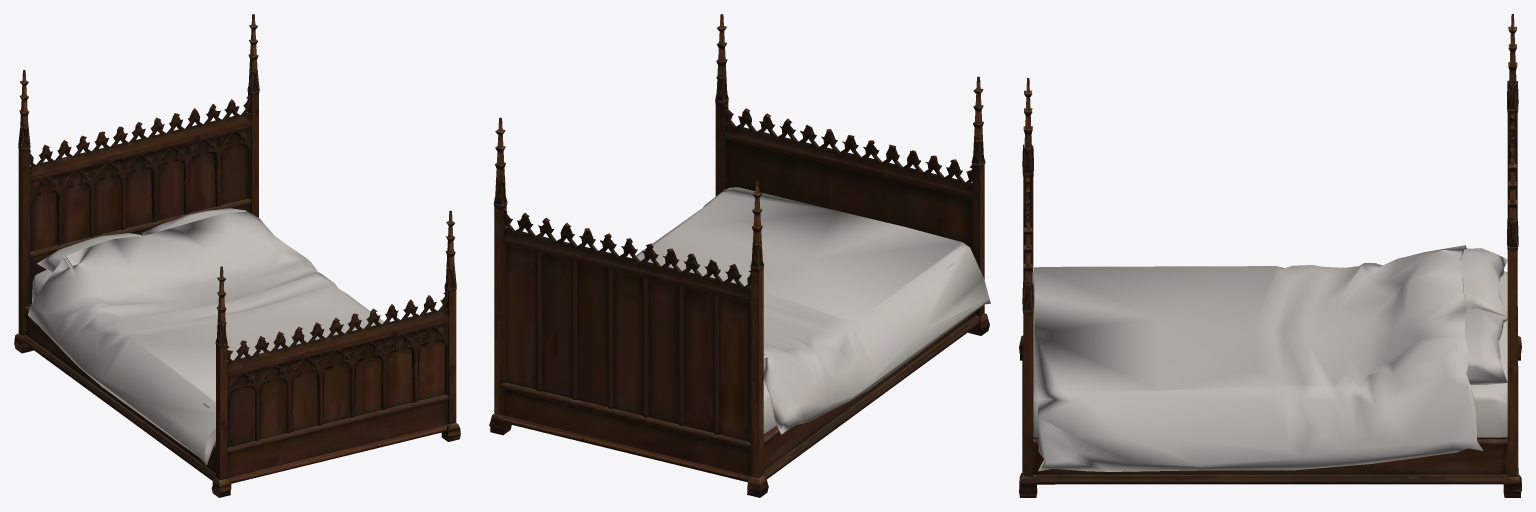
File: bed.glb
3 renders of one model, left to right at view 1: azimuth 30°, elevation 25°; view 2: azimuth 150°, elevation 25°; view 3: azimuth 270°, elevation 25°, orthographic. The views are drawn at different scales.
Visible parts, largest first — view 1: GothicBed_01; view 2: GothicBed_01; view 3: GothicBed_01.
Boxes of the visible parts, x1,y1,x2,y2 form: GothicBed_01: (14,14,460,497); GothicBed_01: (489,14,990,497); GothicBed_01: (1019,14,1521,497).
Size of the model in its own units: 1.49 by 1.53 by 2.04.
Materials: 1 (1 with a texture image).
